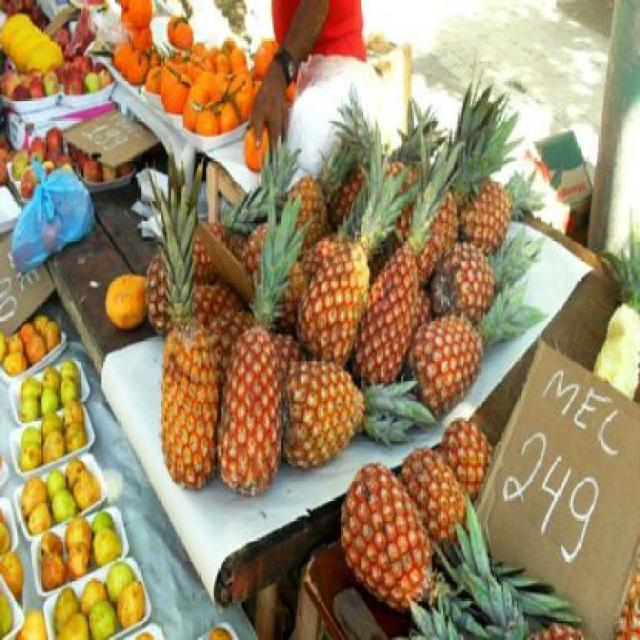Pineapple: (142, 48, 548, 506), (400, 440, 583, 638), (338, 459, 492, 635), (439, 411, 501, 494)
